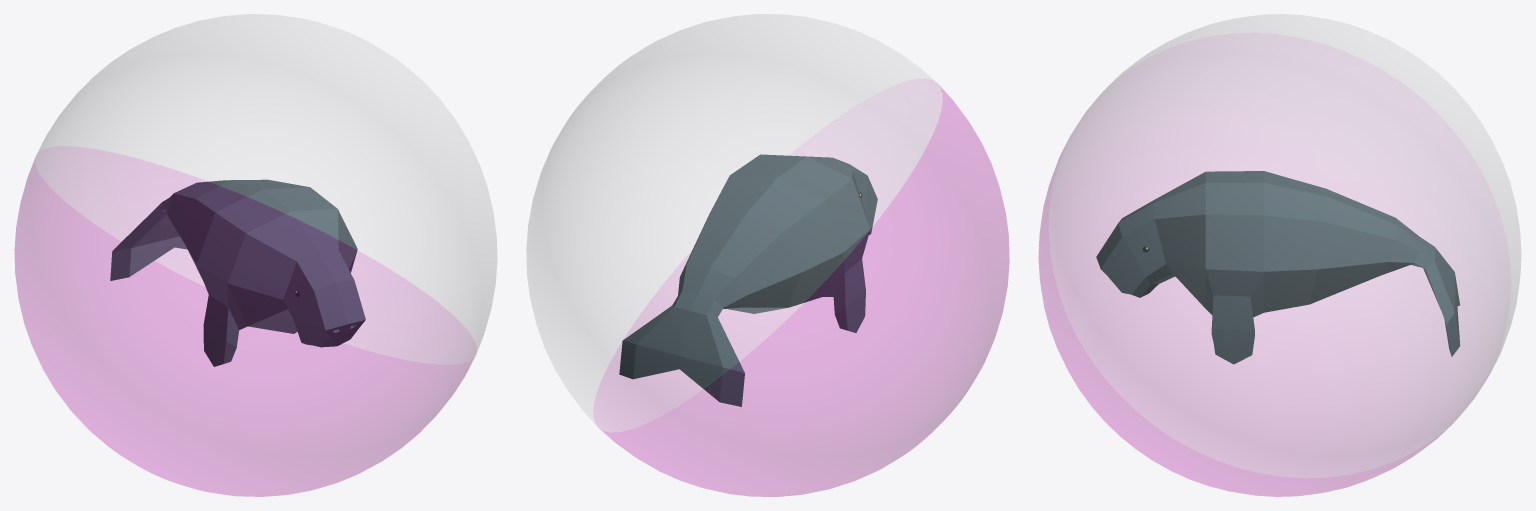
File: manateeball.fbx
The picture shows the model from 3 angles, left to right: view 1: azimuth 30°, elevation 25°; view 2: azimuth 150°, elevation 25°; view 3: azimuth 270°, elevation 25°; orthographic projection.
Parts seen in each view (by area): view 1: Sphere, Manatee_Circle.002; view 2: Sphere, Manatee_Circle.002; view 3: Sphere, Manatee_Circle.002.
Part boxes in pixels (left/top/right/bottom): Sphere: left=14, top=14, right=497, bottom=496; Manatee_Circle.002: left=110, top=179, right=365, bottom=366; Sphere: left=526, top=14, right=1009, bottom=496; Manatee_Circle.002: left=619, top=154, right=877, bottom=406; Sphere: left=1038, top=14, right=1521, bottom=496; Manatee_Circle.002: left=1096, top=171, right=1460, bottom=364.
Bounding box in the file's own units: 671 × 671 × 671.
